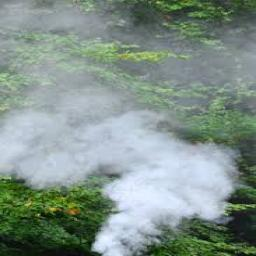Heavy smoke: (1, 1, 256, 256)
